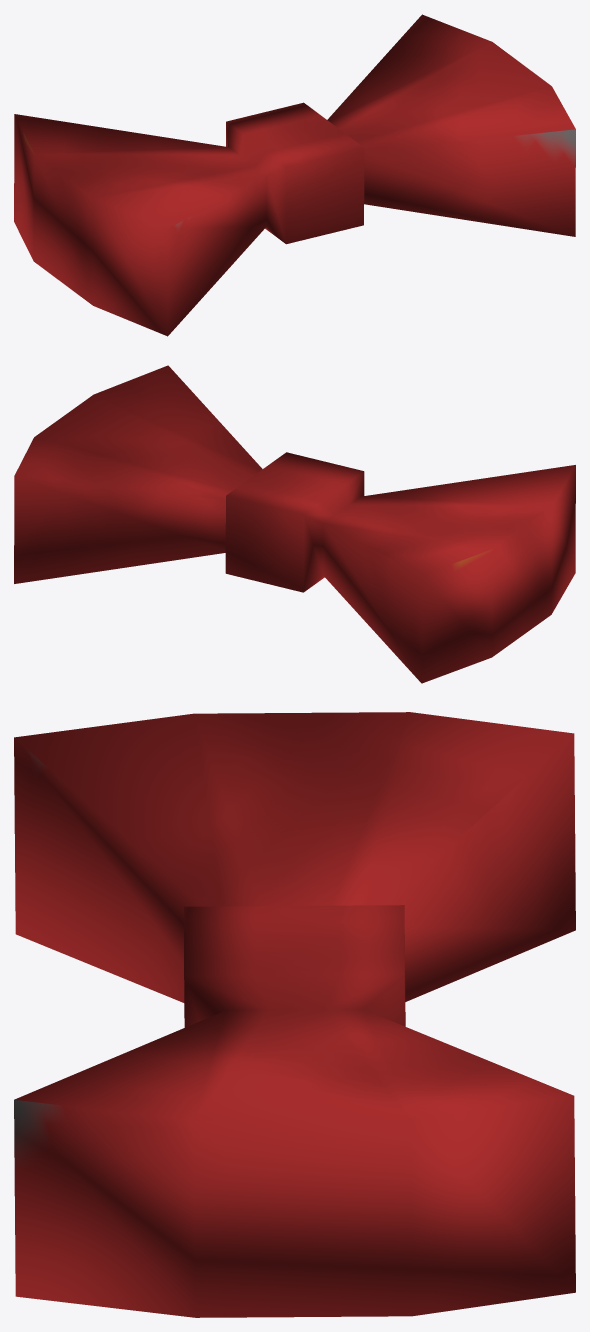
Rendered from bowtie.fbx.
3 renders of one model, top to bottom at view 1: azimuth 30°, elevation 25°; view 2: azimuth 150°, elevation 25°; view 3: azimuth 270°, elevation 25°, orthographic. The views are drawn at different scales.
Visible parts, largest first — view 1: bowtie; view 2: bowtie; view 3: bowtie.
Part boxes in pixels (x1,y1,x2,y2): bowtie: [14, 14, 575, 336]; bowtie: [14, 365, 575, 683]; bowtie: [14, 712, 575, 1317].
Bounding box in the file's own units: 0.8446 × 0.1942 × 0.4925.
